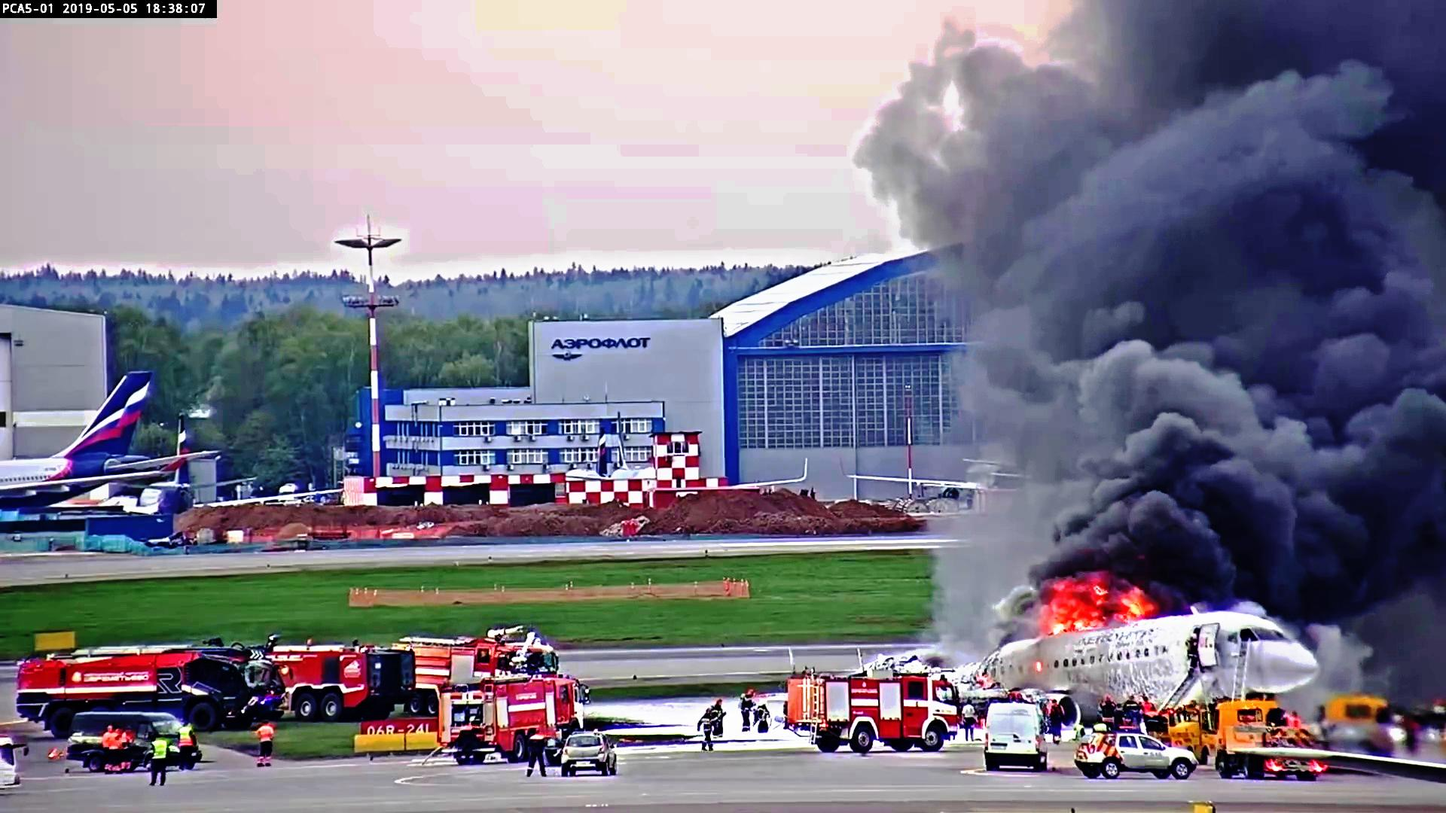fire: (1043, 574, 1144, 649)
smoke: (878, 12, 1437, 572)
